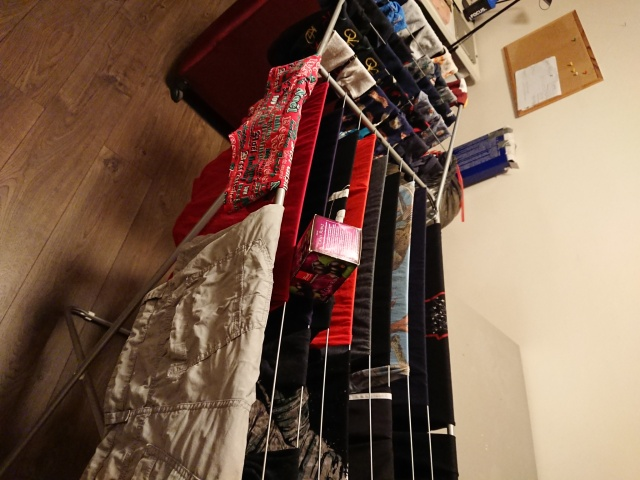Franck Black Currant Tea 60g: (285, 211, 365, 304)
